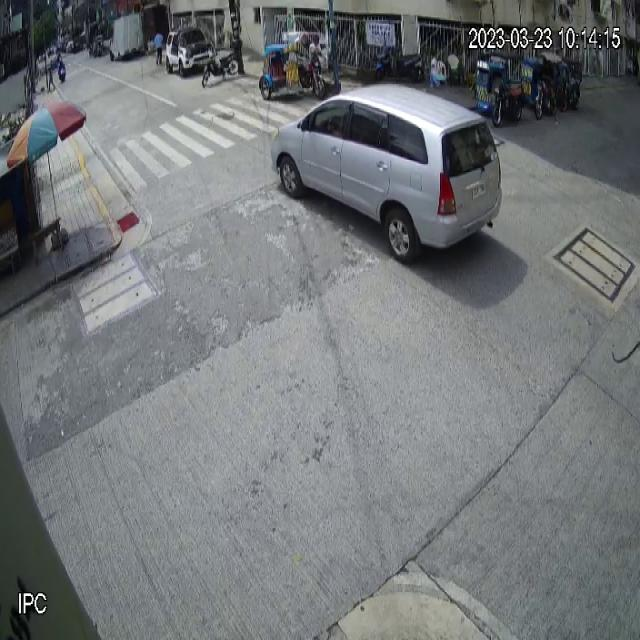Car: (271, 81, 503, 270)
Tricycle: (259, 31, 327, 101), (474, 50, 524, 127)
